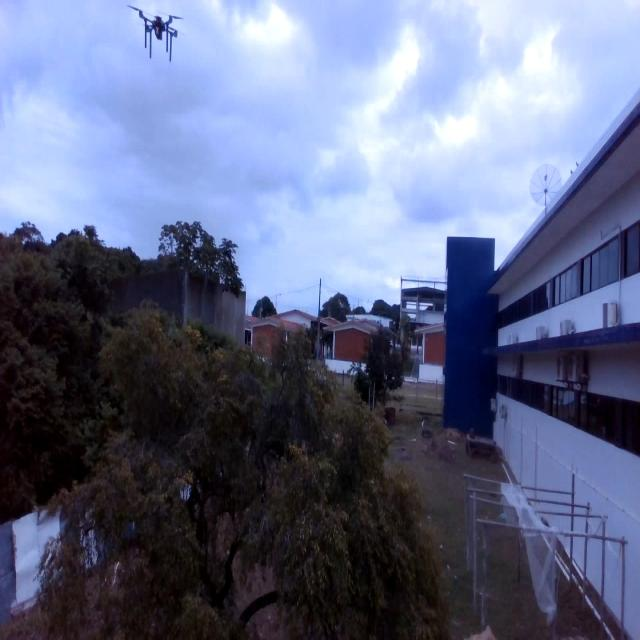-uav-: (119, 0, 189, 81)
